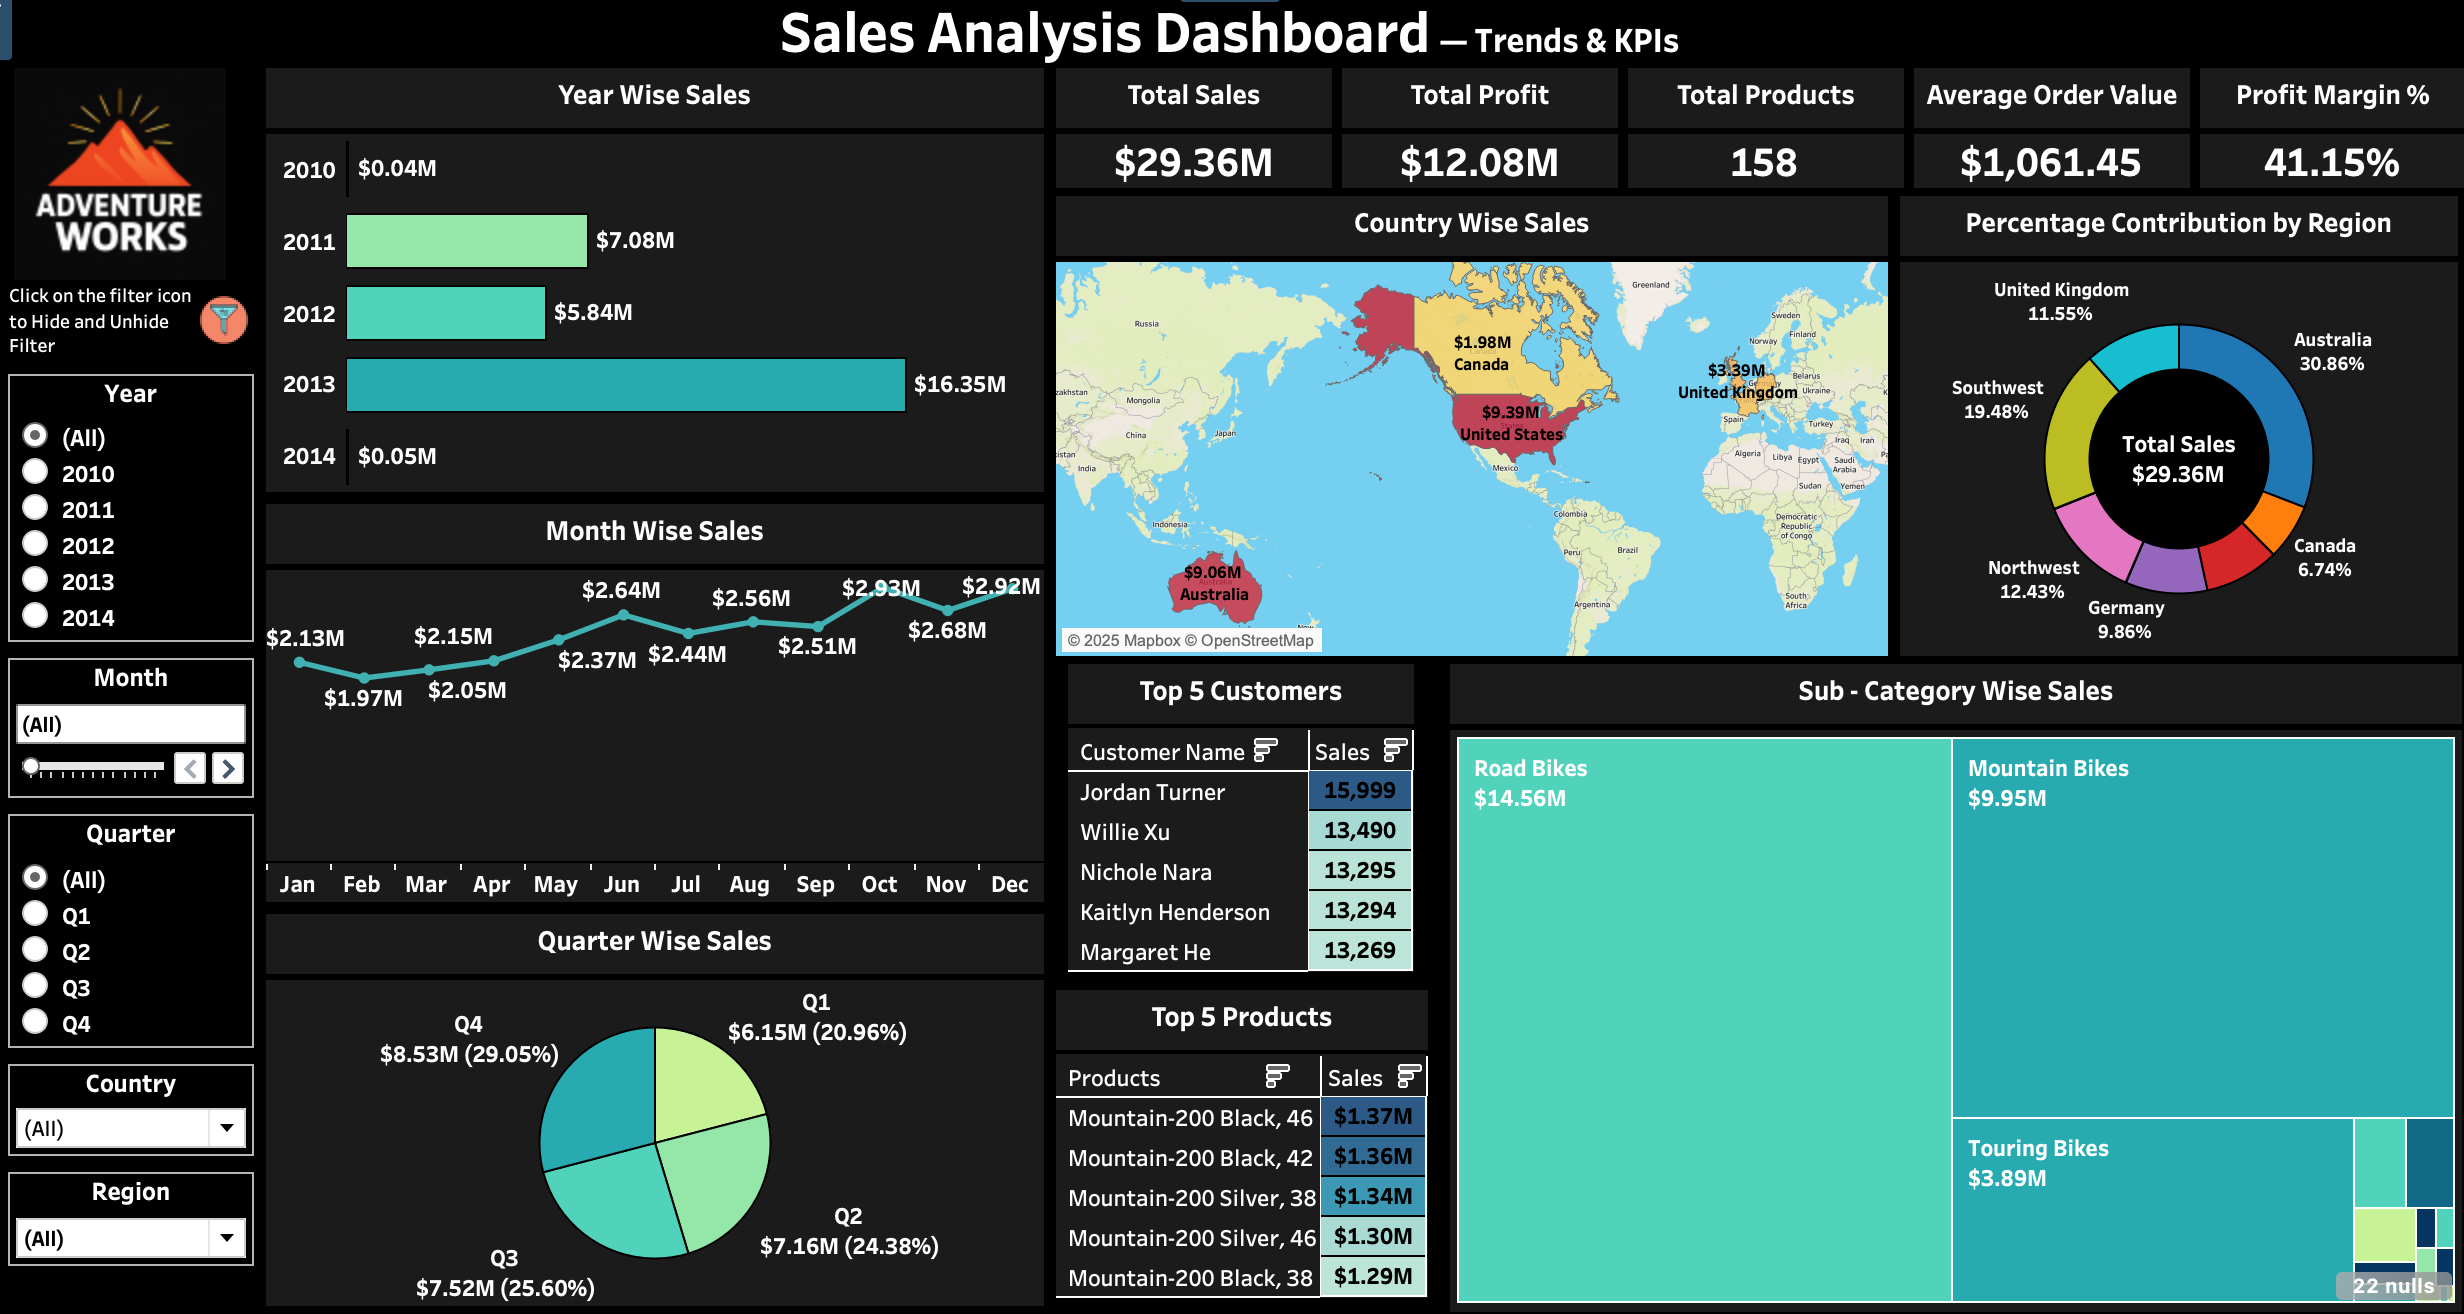

Layout of this report page (visuals, bound fields, positions):
{"tool":"tableau","page":{"name":"Dashboard","canvas":[1000,1000],"units":"permille","ordinal":0},"visuals":[{"type":"text","box":[4.8,11.8,989.7,57.3]},{"type":"image","param":"Image/ChatGPT Image Nov 29, 2025, 06_23_58 PM.png","box":[4.8,67.5,108,155.7]},{"type":"worksheet","title":"Q8","mark":"Bar","rows":["Calculation_5020658167025677"],"cols":["SalesAmount"],"box":[116.5,67.5,309,311.3]},{"type":"worksheet","title":"KPI","mark":"Automatic","box":[430.5,67.5,109.6,88.1]},{"type":"worksheet","title":"KPI (2)","mark":"Automatic","box":[544.1,67.5,109.6,88.1]},{"type":"worksheet","title":"KPI (3)","mark":"Automatic","box":[657.7,67.5,109.6,88.1]},{"type":"worksheet","title":"KPI (4)","mark":"Automatic","box":[771.2,67.5,109.6,88.1]},{"type":"worksheet","title":"KPI (5)","mark":"Automatic","box":[885.1,67.5,105.4,88.1]},{"type":"worksheet","title":"CWS","mark":"Automatic","box":[430.3,161.5,330.4,337.7]},{"type":"worksheet","title":"Q12 (3)","mark":"Pie","rows":["Calculation_2308231848927235","Calculation_2308231848927235"],"box":[765.5,161.5,221.9,337.7]},{"type":"text","box":[12.6,221.7,76.6,64.6]},{"type":"dashboard-object","box":[90.8,235,19.7,35.2]},{"type":"filter","title":"Q8","param":"[federated.1wsct3t0o1zjqs16q72st14u9fwu].[none:Calculation_5020658167025677:nk]","box":[11.1,286.3,103.8,208.5]},{"type":"worksheet","title":"Q9","mark":"Line","rows":["SalesAmount"],"cols":["Calculation_1539192481325056"],"box":[116.5,387.7,309,292.2]},{"type":"filter","title":"Q9","param":"[federated.1wsct3t0o1zjqs16q72st14u9fwu].[none:Calculation_5020658166235146:nk]","box":[11.1,494.9,103.8,114.5]},{"type":"worksheet","title":"Q12 (6)","mark":"Square","rows":["Calculation_1539192513744899"],"box":[435.3,505.1,141.4,235]},{"type":"worksheet","title":"S-CWS","mark":"Automatic","box":[587.2,505.1,401.7,475.8]},{"type":"filter","title":"Q10","param":"[federated.1wsct3t0o1zjqs16q72st14u9fwu].[none:Calculation_5020658163666953:nk]","box":[11.1,609.4,103.8,183.6]},{"type":"worksheet","title":"Q10","mark":"Pie","box":[116.5,688.7,309,287.8]},{"type":"worksheet","title":"Q12 (7)","mark":"Square","rows":["Calculation_1539192522903558"],"box":[430.5,744.5,151.7,233.5]},{"type":"filter","title":"CWS","param":"[federated.1wsct3t0o1zjqs16q72st14u9fwu].[none:SalesTerritoryCountry:nk]","box":[11.1,793,103.8,79.3]},{"type":"filter","title":"Q12 (3)","param":"[federated.1wsct3t0o1zjqs16q72st14u9fwu].[none:SalesTerritoryRegion:nk]","box":[11.1,872.3,103.8,80.8]}]}

Visuals, with their boxes on the dashboard's canvas, which has no fixed pixel size, in thousandths of its width and height (x1, y1, x2, y2). These are canvas units, not pixel positions in the 2464x1314 screenshot, which may show the page scaled, cropped or inside an application window:
text: 5, 12, 994, 69
image: 5, 68, 113, 223
"Q8" worksheet (Bar marks): 116, 68, 426, 379
"KPI" worksheet: 430, 68, 540, 156
"KPI (2)" worksheet: 544, 68, 654, 156
"KPI (3)" worksheet: 658, 68, 767, 156
"KPI (4)" worksheet: 771, 68, 881, 156
"KPI (5)" worksheet: 885, 68, 990, 156
"CWS" worksheet: 430, 162, 761, 499
"Q12 (3)" worksheet (Pie marks): 766, 162, 987, 499
text: 13, 222, 89, 286
dashboard-object: 91, 235, 110, 270
"Q8" filter: 11, 286, 115, 495
"Q9" worksheet (Line marks): 116, 388, 426, 680
"Q9" filter: 11, 495, 115, 609
"Q12 (6)" worksheet (Square marks): 435, 505, 577, 740
"S-CWS" worksheet: 587, 505, 989, 981
"Q10" filter: 11, 609, 115, 793
"Q10" worksheet (Pie marks): 116, 689, 426, 976
"Q12 (7)" worksheet (Square marks): 430, 744, 582, 978
"CWS" filter: 11, 793, 115, 872
"Q12 (3)" filter: 11, 872, 115, 953
